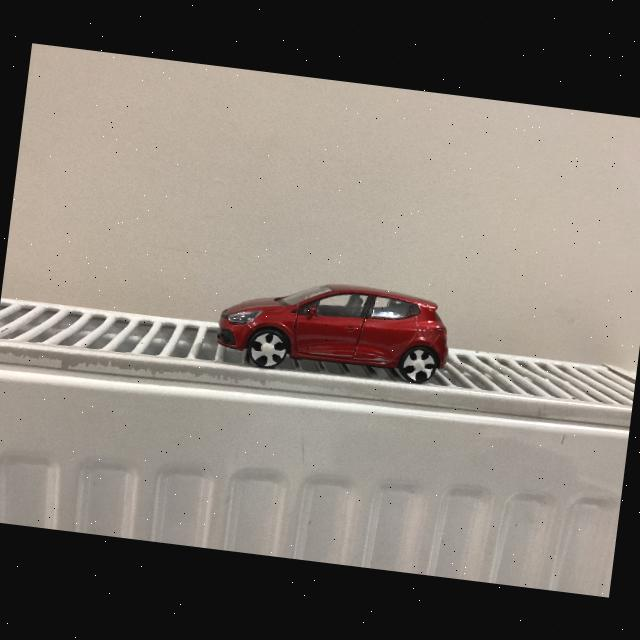Yanlis_Jant: (248, 329, 288, 368), (400, 347, 438, 384)
